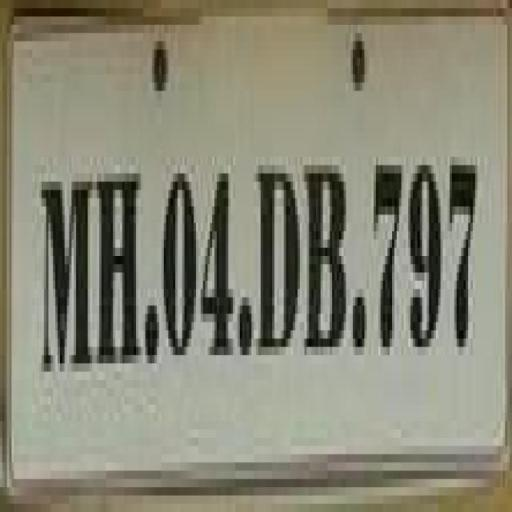number plate: (0, 8, 489, 479)
